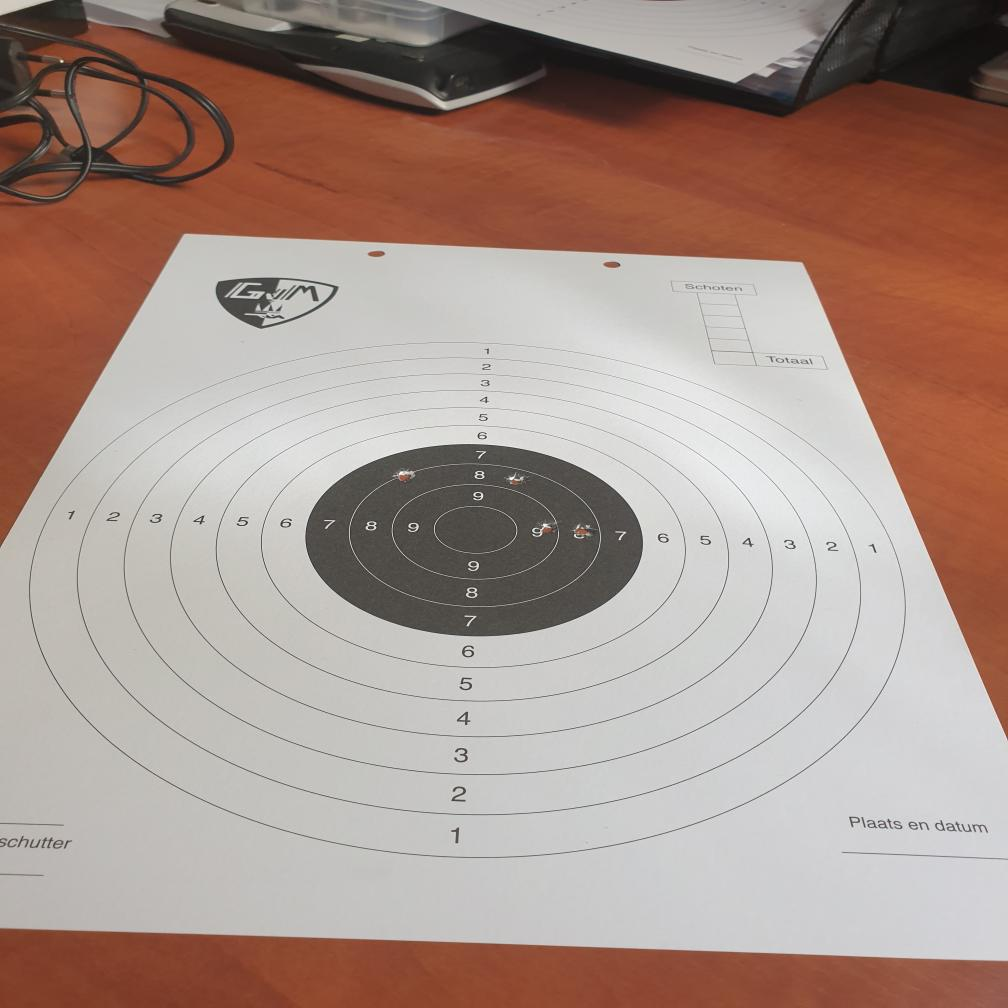8: (504, 471, 531, 488), (391, 467, 417, 484), (570, 523, 597, 538)
9: (537, 520, 559, 536)
Target: (25, 341, 912, 860)
black_contour: (308, 442, 642, 638)
